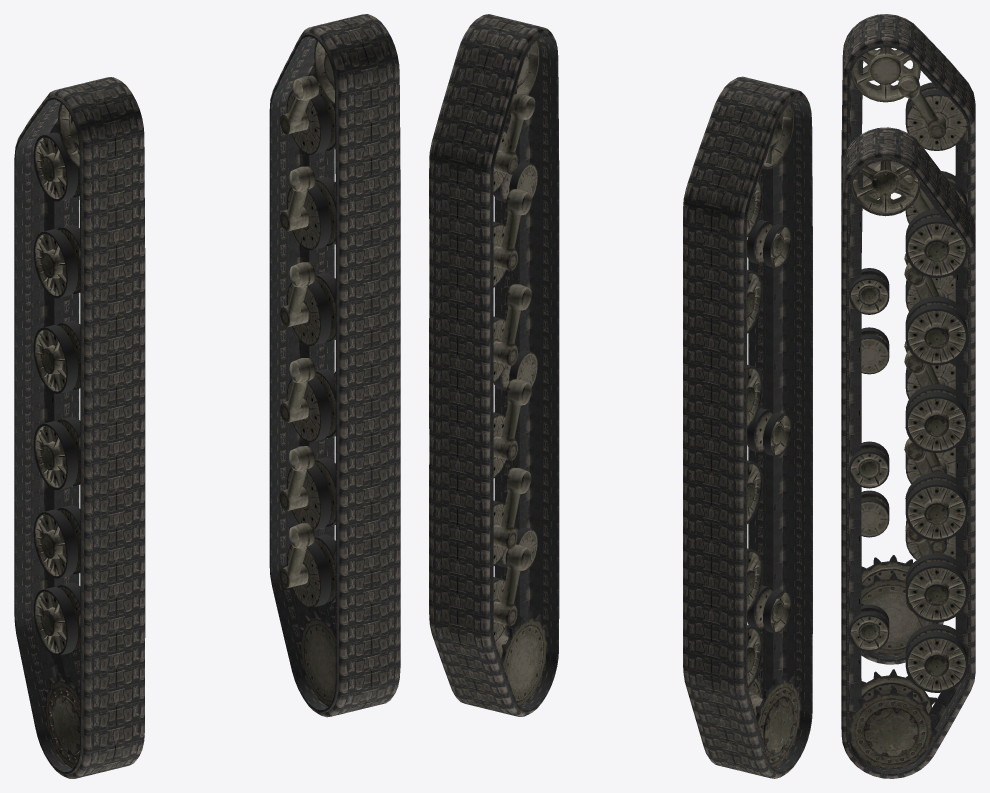
Rendered from Chassis.glb.
3 renders of one model, left to right at view 1: azimuth 30°, elevation 25°; view 2: azimuth 150°, elevation 25°; view 3: azimuth 270°, elevation 25°, orthographic. The views are drawn at different scales.
Parts seen in each view (by area): view 1: set_0_group_0, set_1_group_0, set_3_group_0, set_2_group_0; view 2: set_0_group_0, set_1_group_0, set_3_group_0, set_2_group_0; view 3: set_3_group_0, set_1_group_0, set_2_group_0, set_0_group_0.
Part boxes in pixels (x1,y1,x2,y2): set_0_group_0: (14, 77, 145, 778); set_1_group_0: (269, 14, 400, 717); set_3_group_0: (279, 41, 335, 706); set_2_group_0: (33, 103, 80, 768); set_0_group_0: (683, 76, 812, 778); set_1_group_0: (429, 14, 559, 716); set_3_group_0: (493, 40, 546, 706); set_2_group_0: (747, 103, 800, 768); set_3_group_0: (849, 160, 967, 769); set_1_group_0: (841, 127, 975, 778); set_2_group_0: (851, 47, 967, 654); set_0_group_0: (841, 14, 975, 664).
Size of the model in its own units: 3.24 by 6.65 by 1.29.
Materials: 4 (4 with a texture image).
